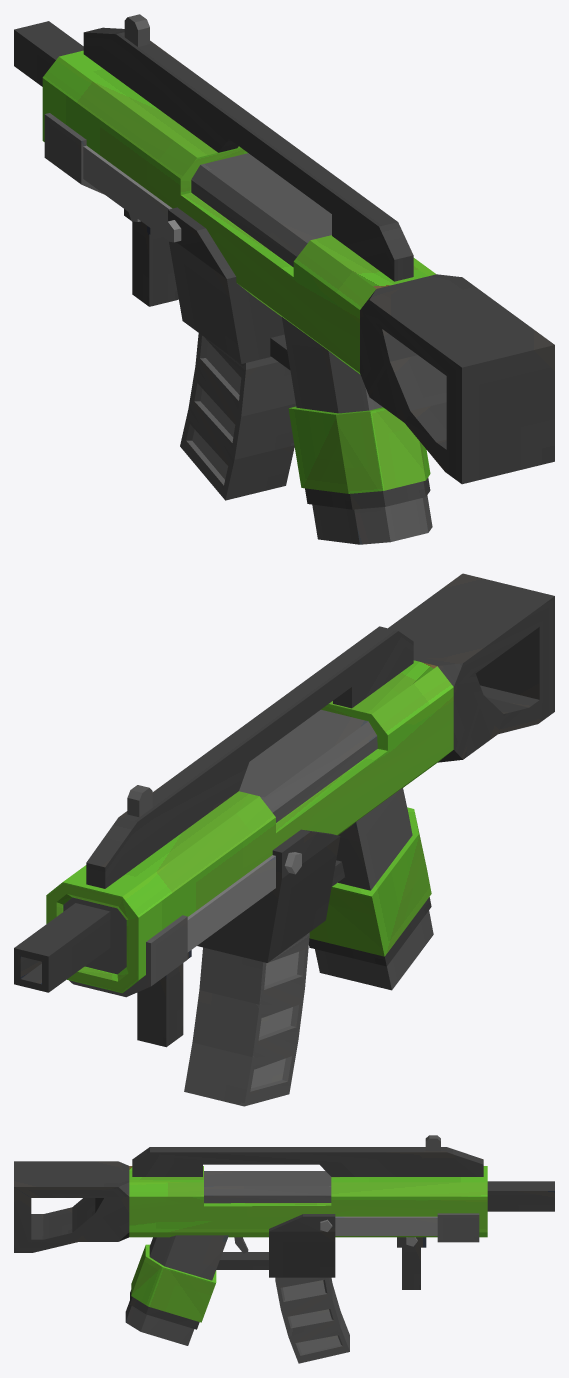
The model's file is smg_3.glb.
The picture shows the model from 3 angles, top to bottom: view 1: azimuth 30°, elevation 25°; view 2: azimuth 150°, elevation 25°; view 3: azimuth 270°, elevation 25°; orthographic projection. The views are drawn at different scales.
Parts seen in each view (by area): view 1: subfusil_3_texture_0; view 2: subfusil_3_texture_0; view 3: subfusil_3_texture_0.
Boxes of the visible parts, <box> form: subfusil_3_texture_0: <box>14,14,554,544</box>; subfusil_3_texture_0: <box>14,573,554,1106</box>; subfusil_3_texture_0: <box>14,1135,554,1363</box>.
Size of the model in its own units: 0.0898 by 0.2681 by 0.6009.
1 material, 1 textured.
